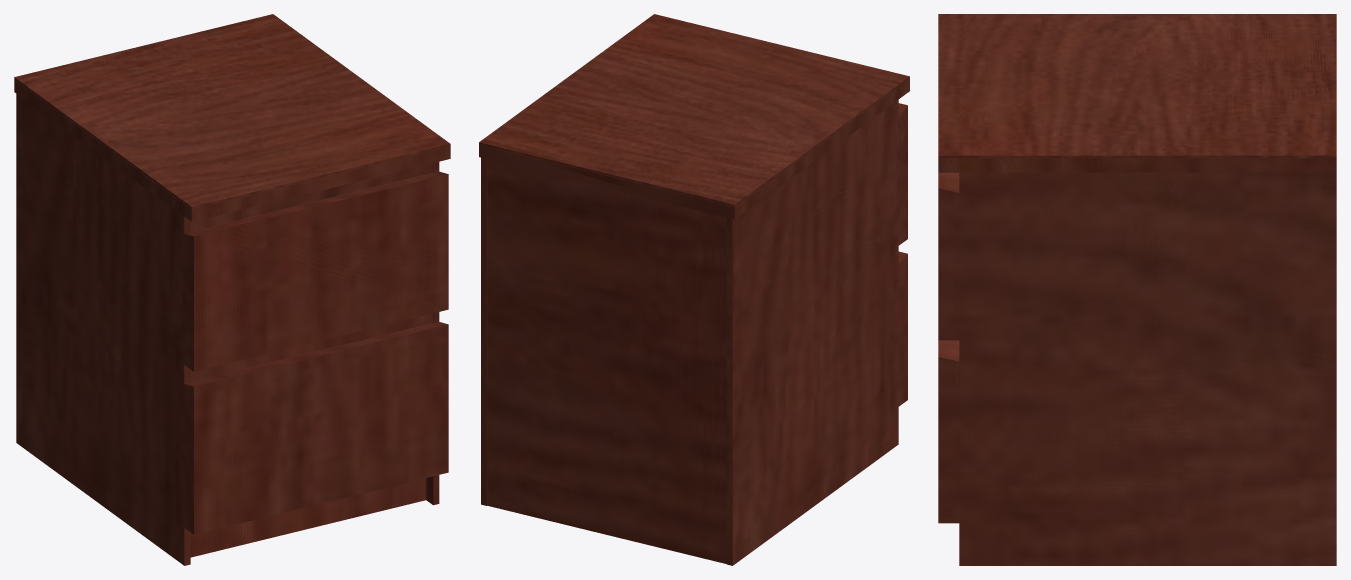
Rendered from bedroom_nightstand.dae.
3 renders of one model, left to right at view 1: azimuth 30°, elevation 25°; view 2: azimuth 150°, elevation 25°; view 3: azimuth 270°, elevation 25°, orthographic. The views are drawn at different scales.
Parts seen in each view (by area): view 1: group_0, group_0_002; view 2: group_0, group_0_002; view 3: group_0, group_0_002.
Boxes of the visible parts, x1=… form: group_0: x1=14, y1=79, x2=450, y2=565; group_0_002: x1=14, y1=14, x2=450, y2=208; group_0: x1=479, y1=78, x2=909, y2=565; group_0_002: x1=479, y1=14, x2=909, y2=206; group_0: x1=938, y1=158, x2=1336, y2=565; group_0_002: x1=938, y1=14, x2=1336, y2=158.
Size of the model in its own units: 0.4064 by 0.4826 by 0.5495.
Materials: 4 (2 with a texture image).
